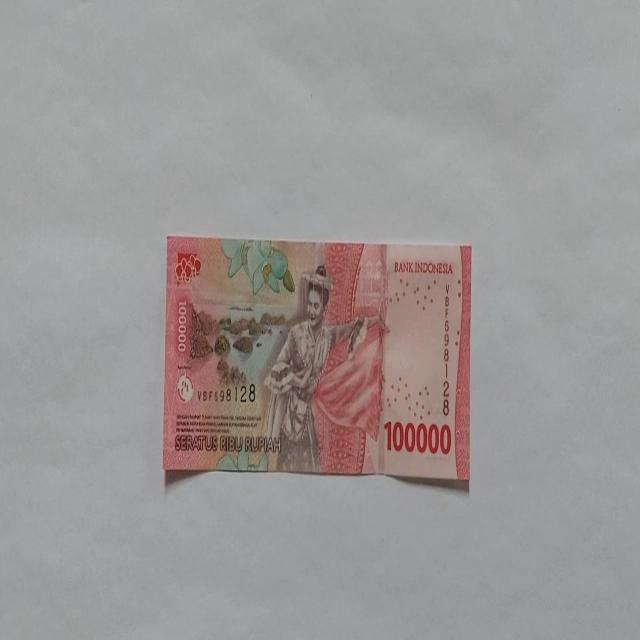Kertas: (162, 236, 471, 484), (383, 418, 452, 456)
